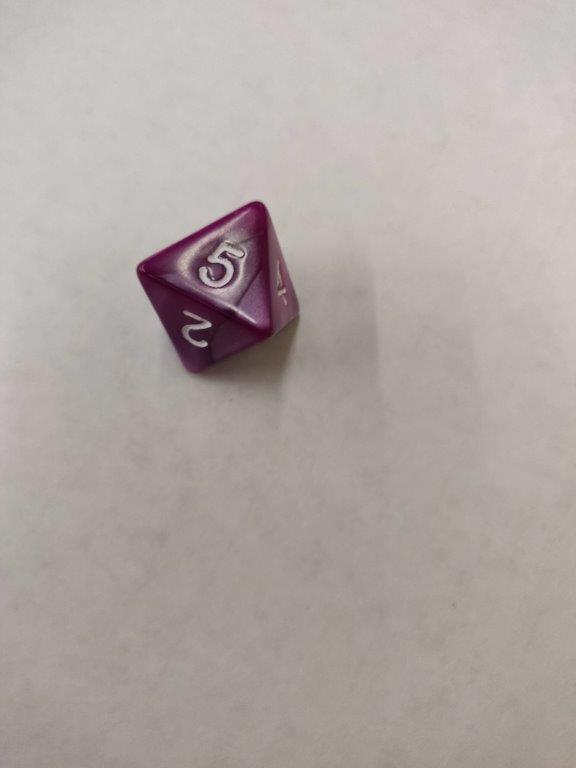d8-5: (137, 198, 302, 377)
